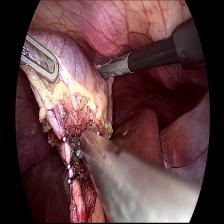Clipper: (72, 122, 105, 163)
Grasper: (17, 33, 59, 85), (96, 52, 132, 80)
